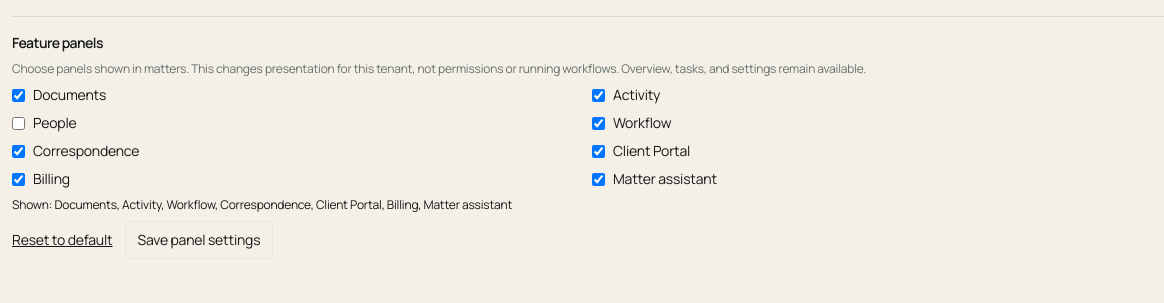
saves tenant presentation policy and leaves failure retryable
Expected: the checkbox labelled "People" is not checked, [12,116,25,130]
Click the checkbox labelled "Workflow". click: (598, 123)
box: [592,116,605,130]
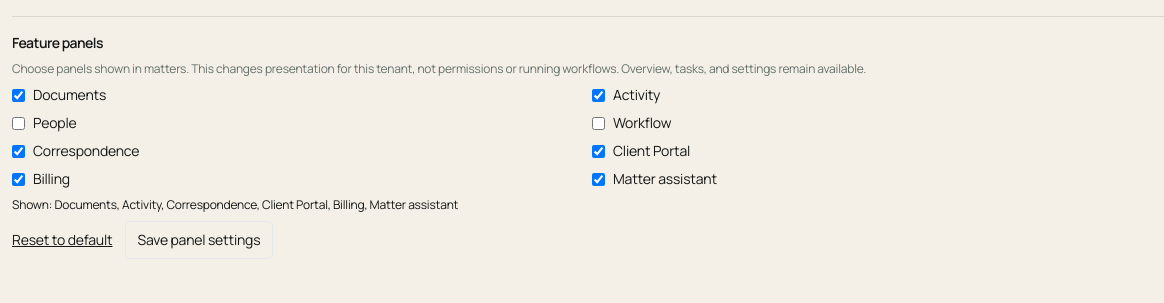
Click the button "Save panel settings". click: (199, 240)
box: [124,221,273,259]
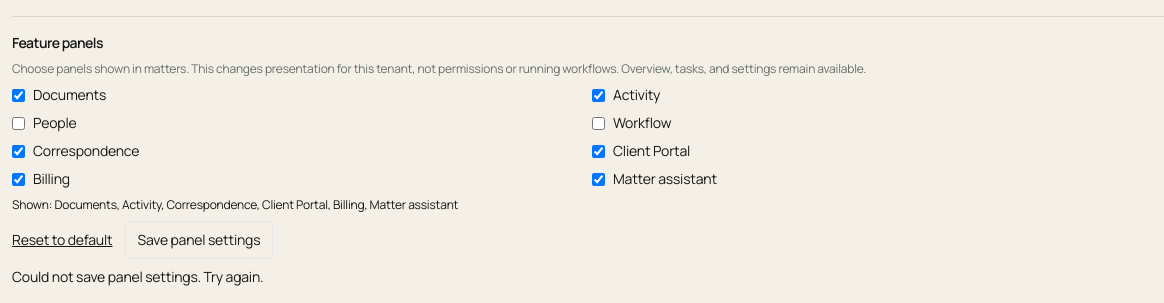
Now the text "Could not save panel settings. Try again." is shown, box [12,267,263,286]
Click the button "Save panel settings". click: (199, 240)
box: [124,221,273,259]
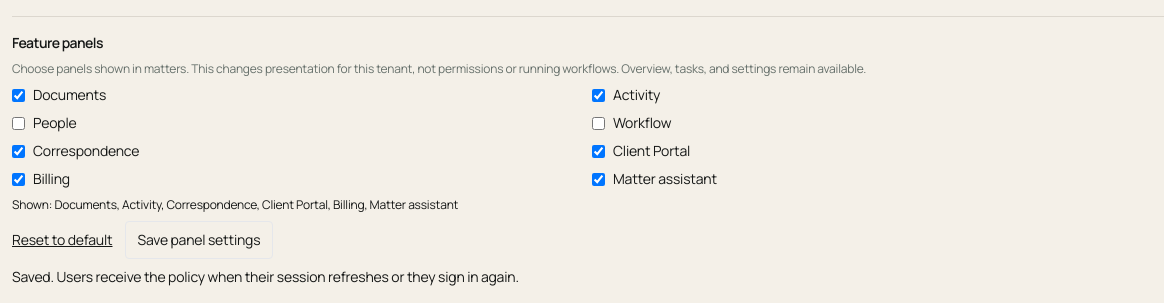
Click the button "Reset to default". click: (62, 240)
box: [12,230,112,250]
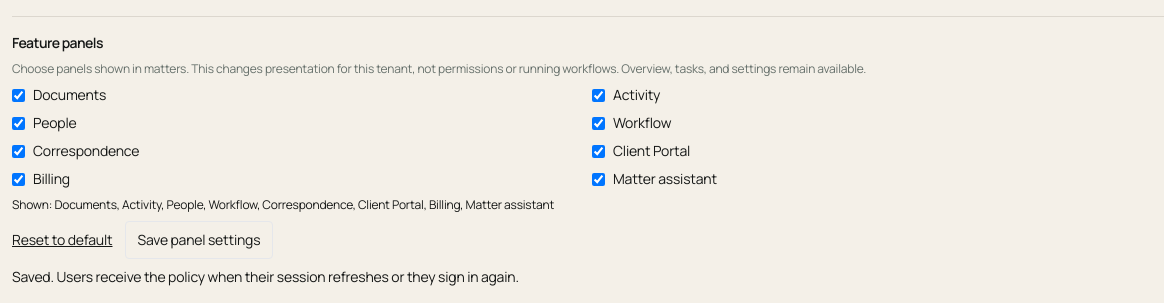
Now the checkbox labelled "People" is checked, box [12,116,25,130]
